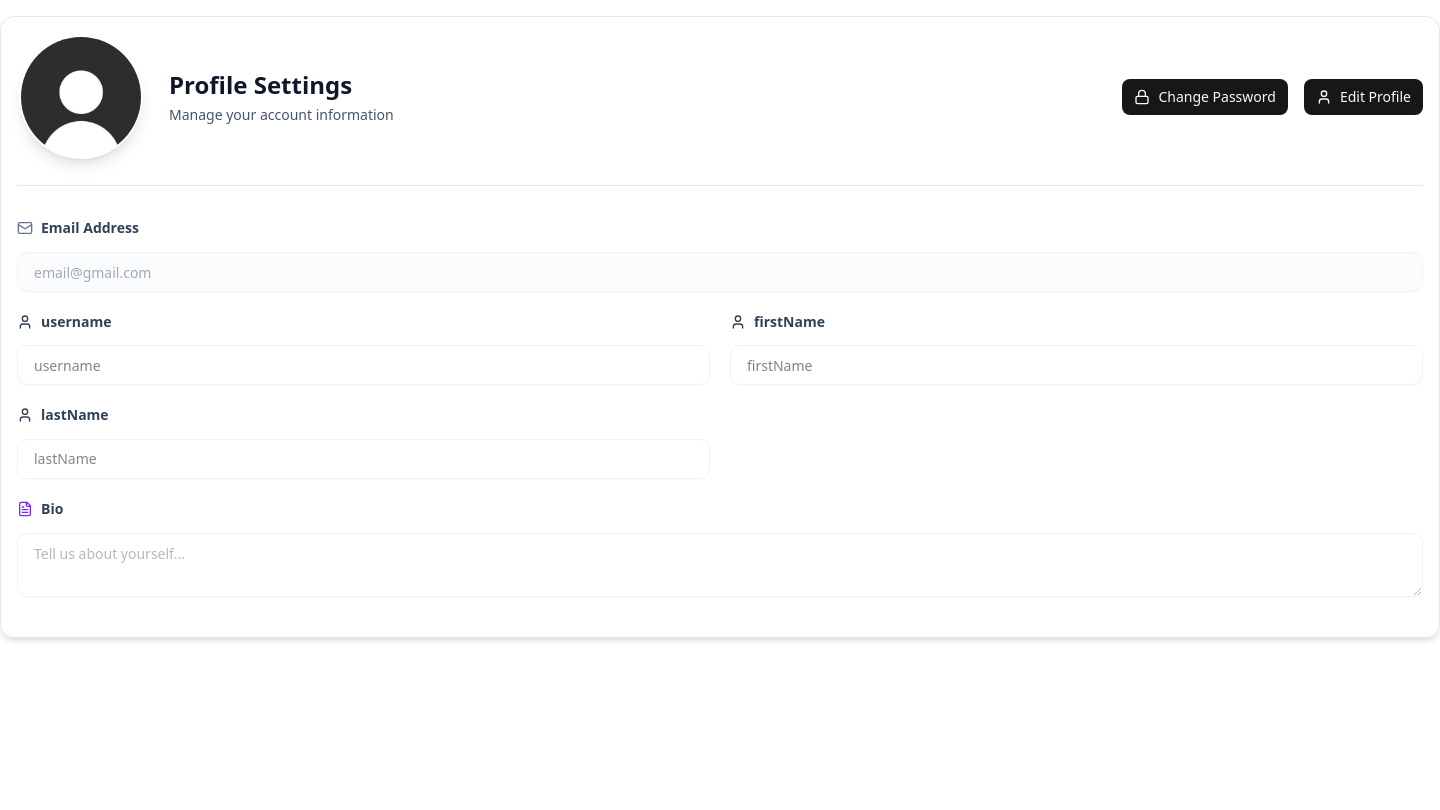
it:  › show validation errors for password mismatch
The image size is (1440, 810).
Click the button "Change Password" at (1205, 97), box [1122,79,1288,115]
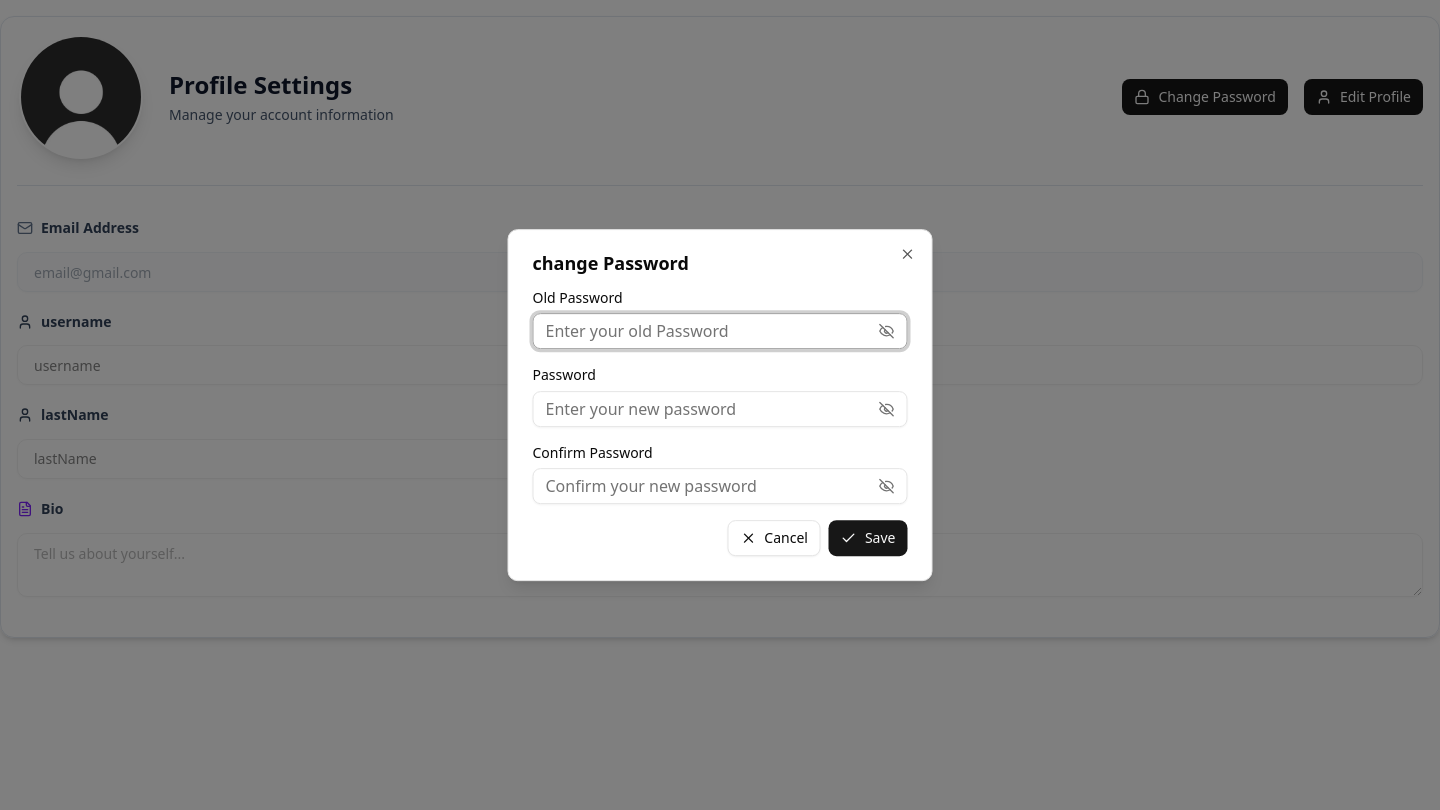
Type "oldPassword" into the password field labelled "Old Password" at (706, 331), box [534,311,878,351]
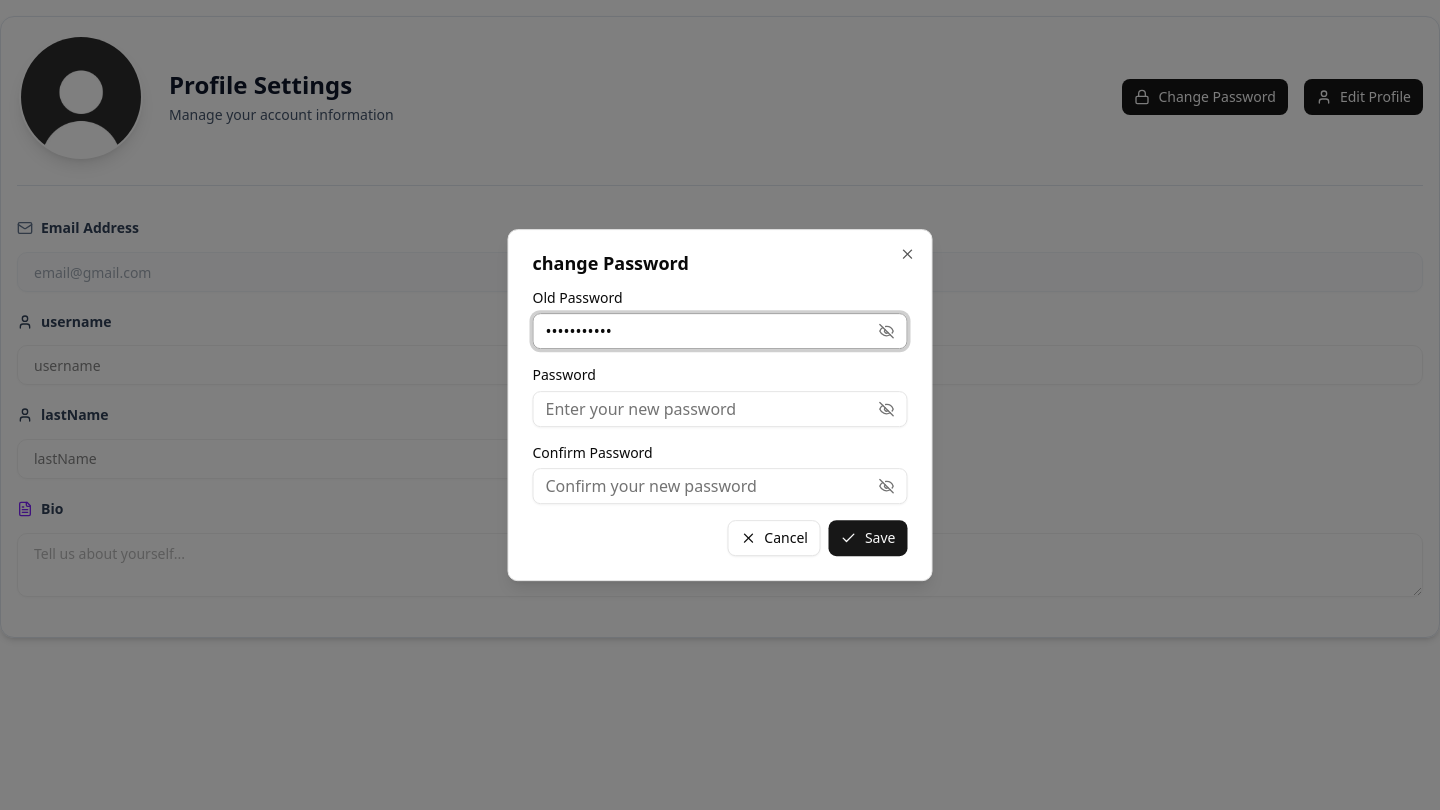
Type "password" into the password field labelled "Password" at (706, 409), box [534,389,878,429]
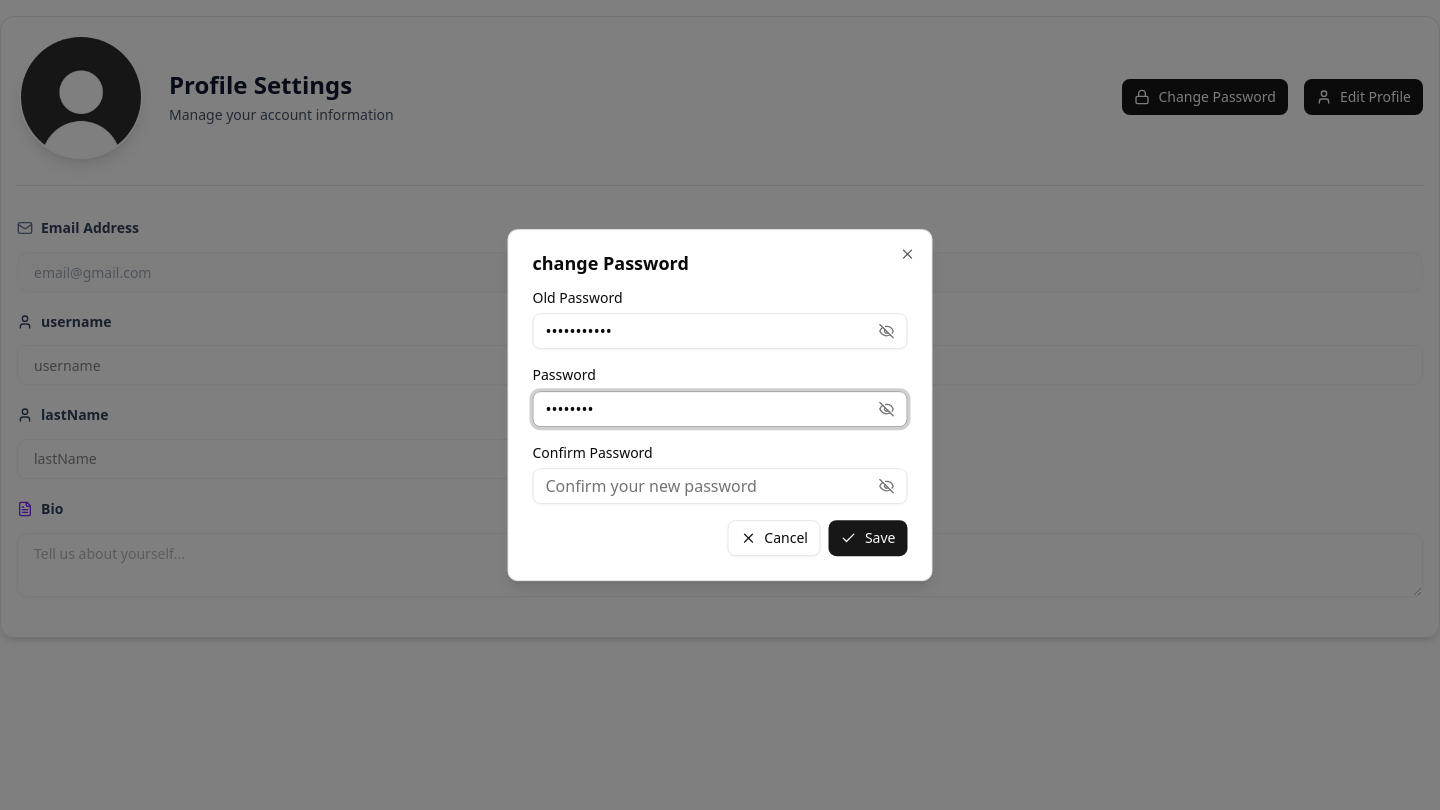
Type "paassword" into the password field labelled "Confirm Password" at (706, 486), box [534,466,878,506]
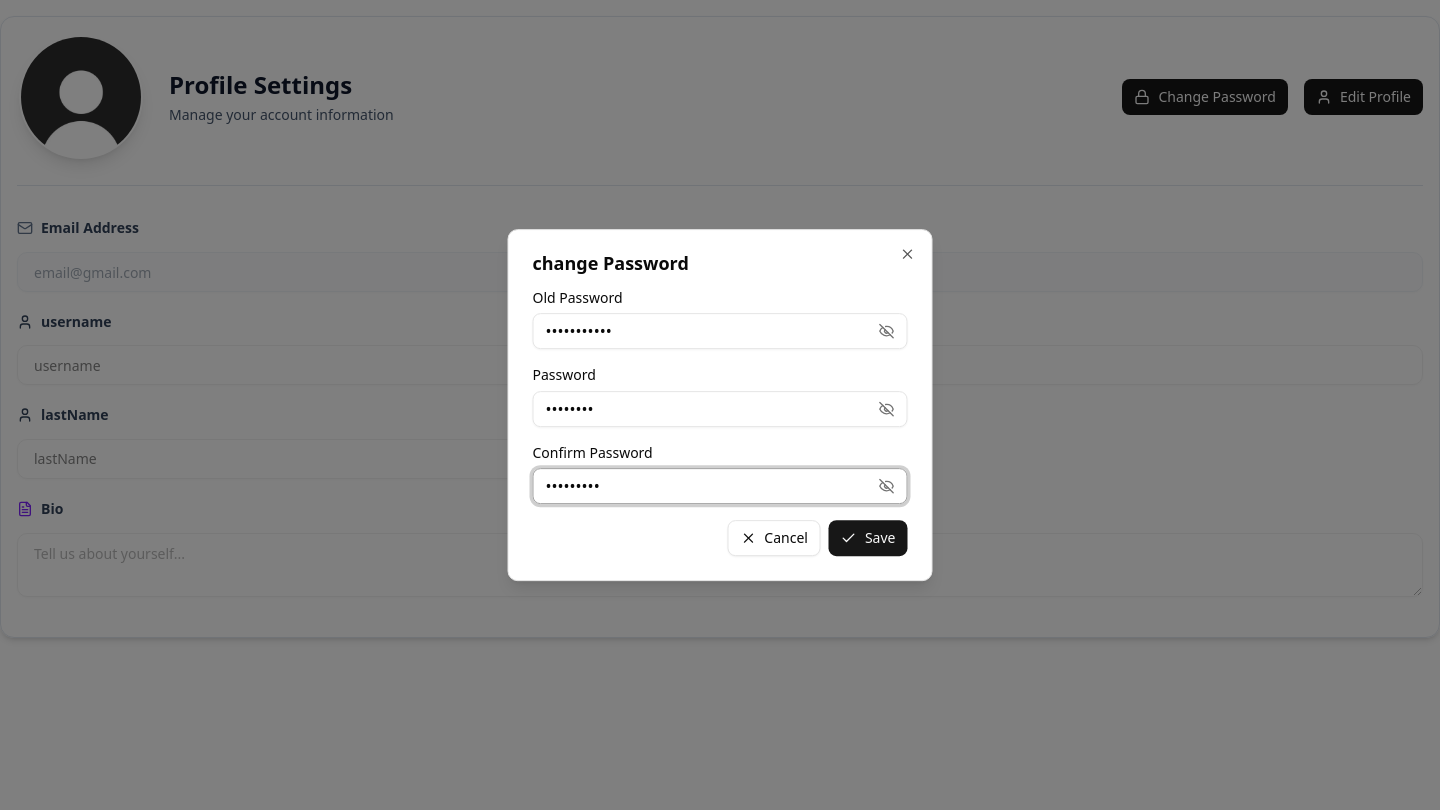
Click the button "Save" at (868, 538), box [829,520,908,556]
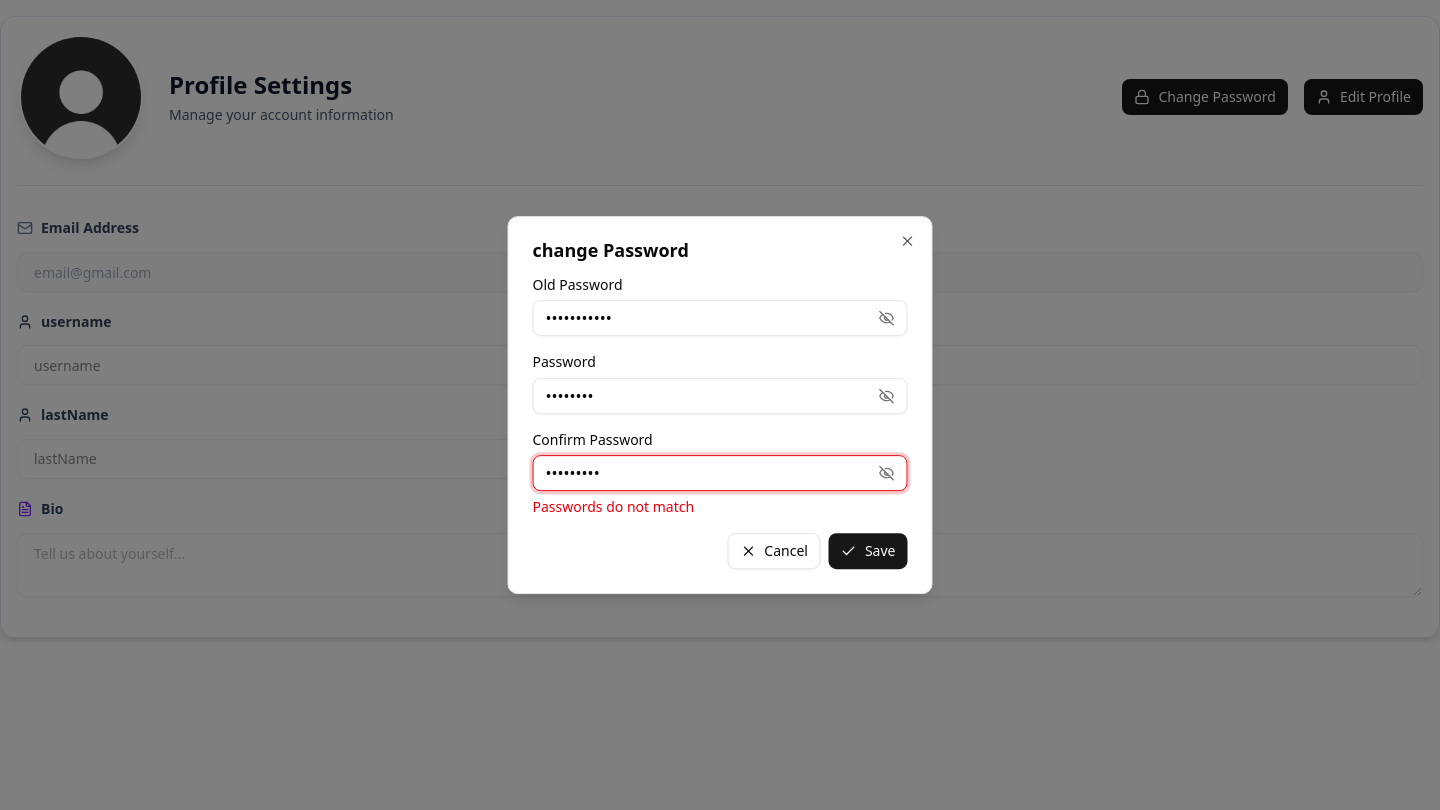
Expected: the button "Save" is shown, [829,533,908,569]
Expected: the text "Passwords do not match" is shown, [532,497,694,516]
